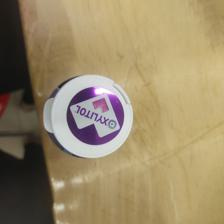Xylitol_BTS: (37, 72, 135, 161)
